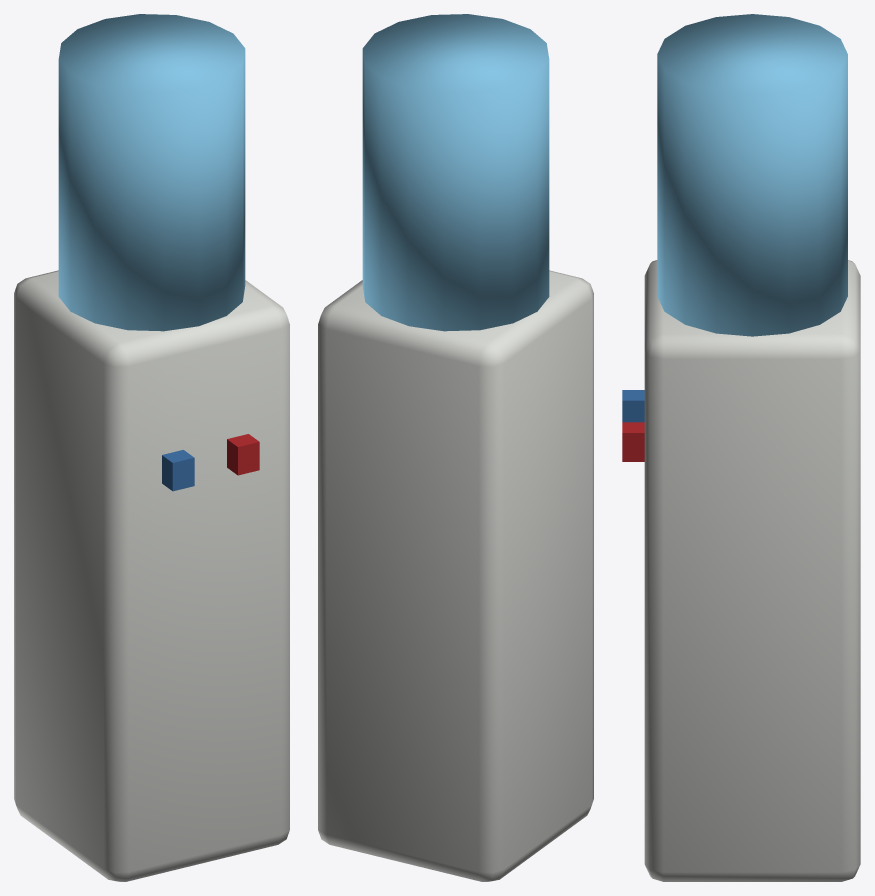
File: water_cooler.gltf
The picture shows the model from 3 angles, left to right: view 1: azimuth 30°, elevation 25°; view 2: azimuth 150°, elevation 25°; view 3: azimuth 270°, elevation 25°; orthographic projection.
Visible parts, largest first — view 1: water_cooler_mesh; view 2: water_cooler_mesh; view 3: water_cooler_mesh.
Part boxes in pixels (box(x1,y1,x2,y2)): water_cooler_mesh: box(14, 14, 289, 881); water_cooler_mesh: box(318, 14, 593, 881); water_cooler_mesh: box(622, 14, 860, 881).
Size of the model in its own units: 0.34 by 1.37 by 0.375.
